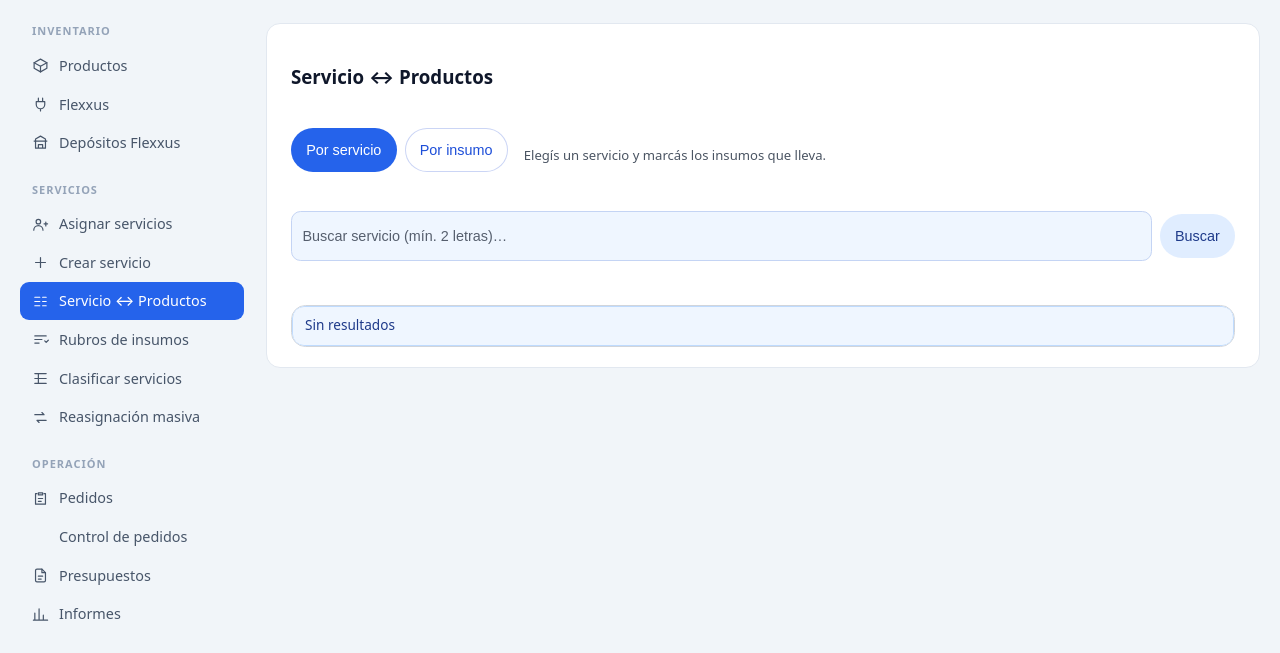
Test: Servicio ↔ Productos — nombres › no muestra los id de la base y deja el nombre entero
In the field labelled "Buscar servicio": (721, 236) [291, 212, 1152, 262], type "hospital"
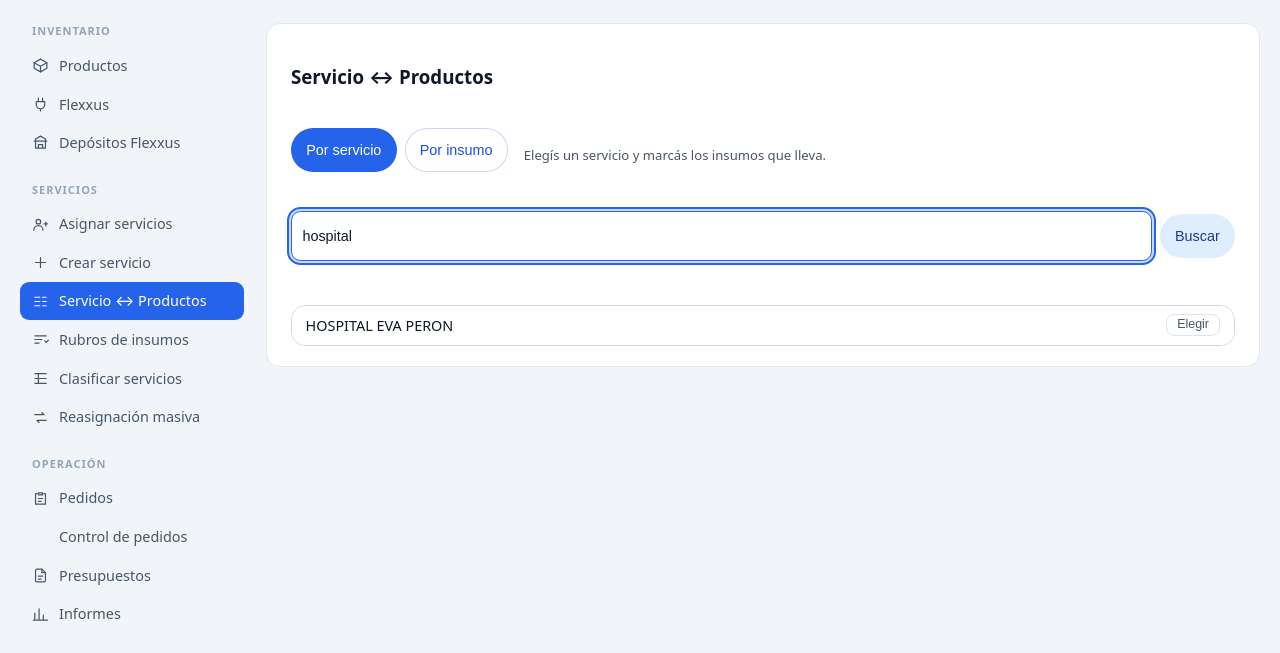
Click the button "Elegir": (1193, 325) [1166, 314, 1220, 336]
(page scrolled)
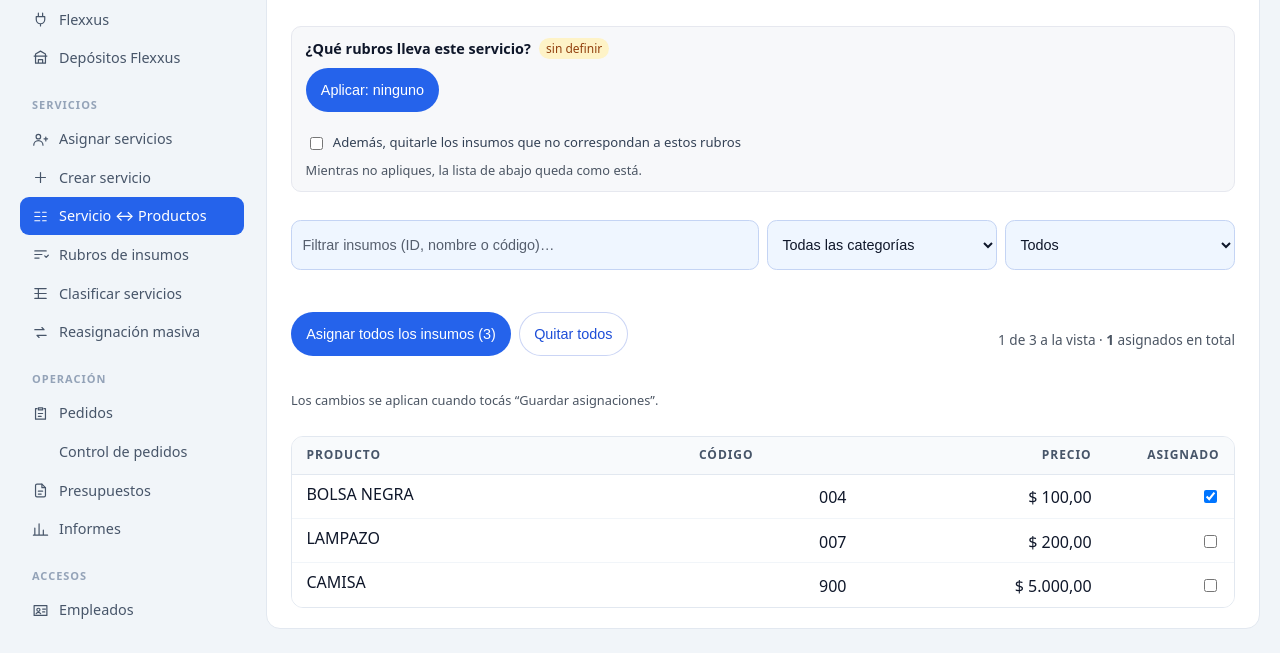
Expected: the field labelled "Filtrar insumos" is shown, [291, 220, 759, 270]
Expected: the text "BOLSA NEGRA" is shown, [306, 483, 414, 505]
